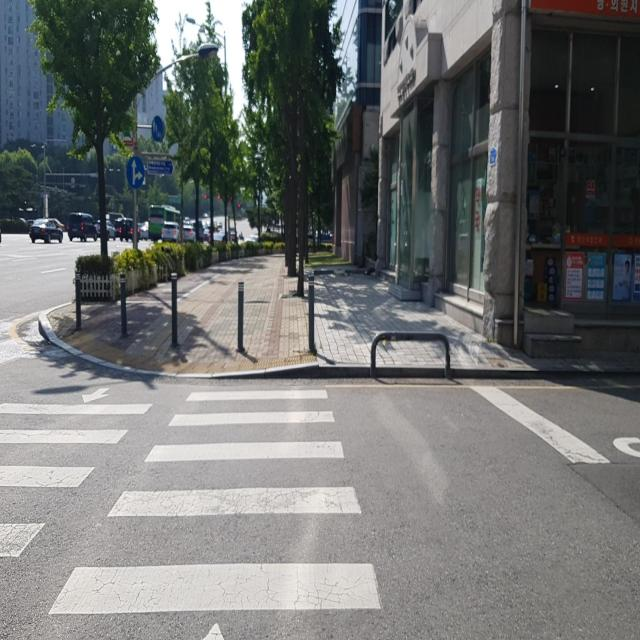횡단보도: (0, 380, 384, 639)
